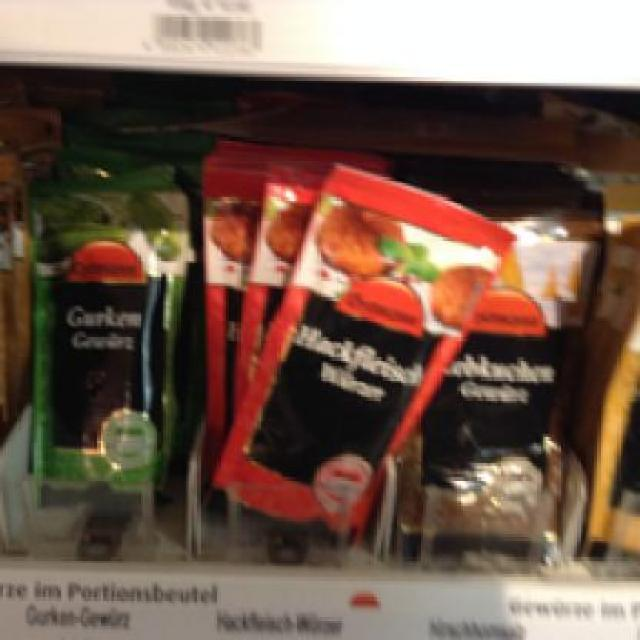Spices: (214, 157, 503, 532), (434, 190, 597, 566), (20, 169, 186, 520)
